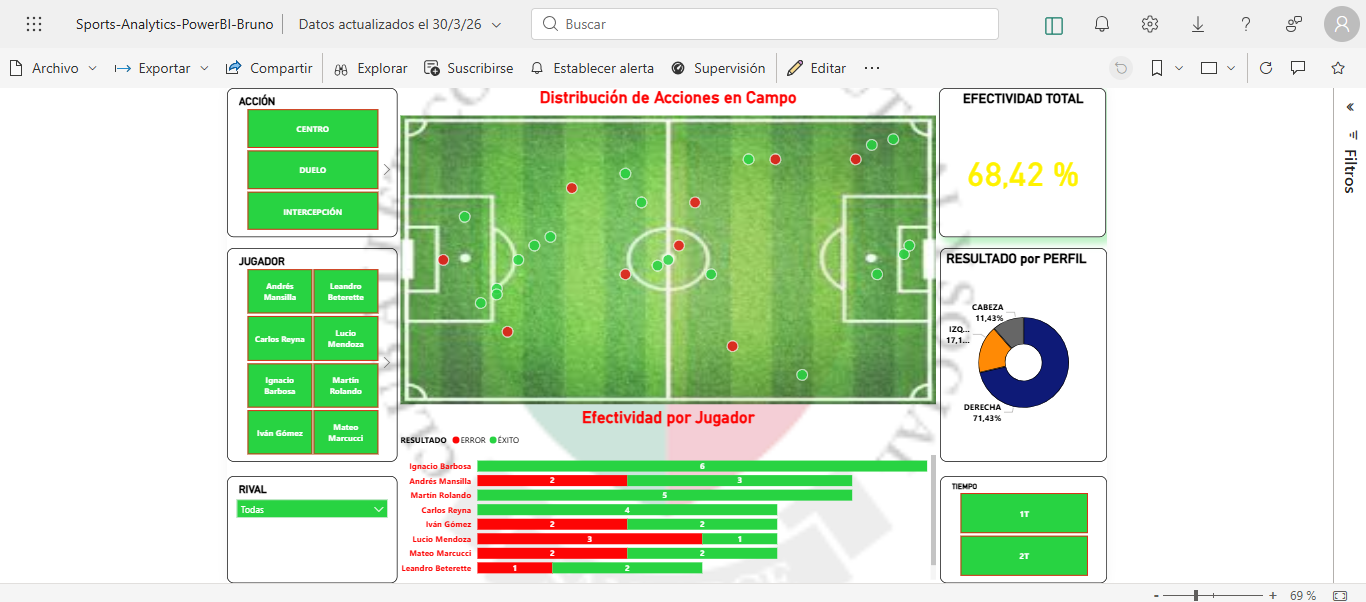

This screenshot's page, from the dashboard's own definition file:
{"tool":"powerbi","page":{"name":"Fecha 1","canvas":[1280,720],"ordinal":0},"visuals":[{"type":"scatterChart","title":"Distribución de Acciones en Campo","fields":{"X":["ANALISIS.X ORIGEN"],"Y":["ANALISIS.Y ORIGEN"],"Series":["ANALISIS.RESULTADO"]},"box":[247.7,0,789.1,465.1],"z":0},{"type":"slicer","fields":{"Values":["ANALISIS.JUGADOR"]},"box":[0,233.3,247.7,311],"z":1000},{"type":"slicer","fields":{"Values":["ANALISIS.ACCIÓN "]},"box":[0,0,247.7,217.4],"z":2000},{"type":"slicer","fields":{"Values":["ANALISIS.TIEMPO"]},"box":[1036.8,564.5,243.4,155.5],"z":3000},{"type":"card","title":"EFECTIVIDAD TOTAL","fields":{"Values":["ANALISIS.% EFECTIVIDAD"]},"box":[1035.4,0,243.4,217.4],"z":4000},{"type":"barChart","title":"Efectividad por Jugador","fields":{"Category":["ANALISIS.JUGADOR"],"Series":["ANALISIS.RESULTADO"],"Y":["CountNonNull(ANALISIS.RESULTADO)"]},"box":[247.7,465.1,789.1,254.9],"z":5000},{"type":"donutChart","title":"RESULTADO por PERFIL","fields":{"Category":["ANALISIS.PERFIL"],"Y":["CountNonNull(ANALISIS.RESULTADO)"]},"box":[1036.8,233.3,243.4,311],"z":6000},{"type":"slicer","fields":{"Values":["ANALISIS.RIVAL"]},"box":[0,564.5,247.7,155.5],"z":7000}]}

Visuals, with their boxes on the page's 1280x720 design canvas (x1, y1, x2, y2). These are canvas units, not pixel positions in the 1366x602 screenshot, which may show the page scaled, cropped or inside an application window:
"Distribución de Acciones en Campo" scatterChart: Rect(248, 0, 1037, 465)
slicer - ANALISIS.JUGADOR: Rect(0, 233, 248, 544)
slicer - ANALISIS.ACCIÓN : Rect(0, 0, 248, 217)
slicer - ANALISIS.TIEMPO: Rect(1037, 564, 1280, 720)
"EFECTIVIDAD TOTAL" card: Rect(1035, 0, 1279, 217)
"Efectividad por Jugador" barChart: Rect(248, 465, 1037, 720)
"RESULTADO por PERFIL" donutChart: Rect(1037, 233, 1280, 544)
slicer - ANALISIS.RIVAL: Rect(0, 564, 248, 720)
